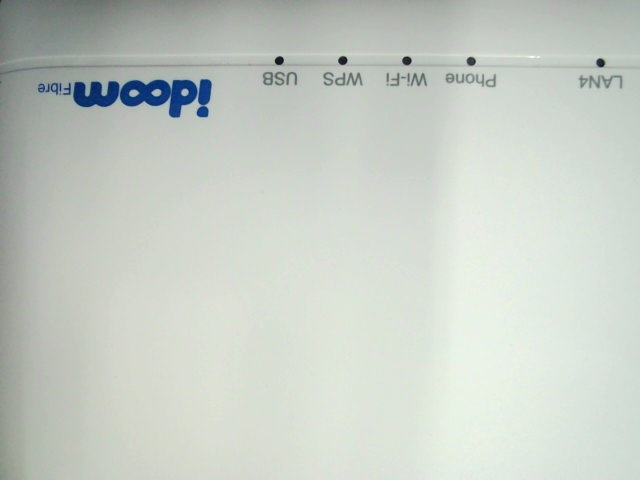BB_idoom: (34, 65, 214, 122)
